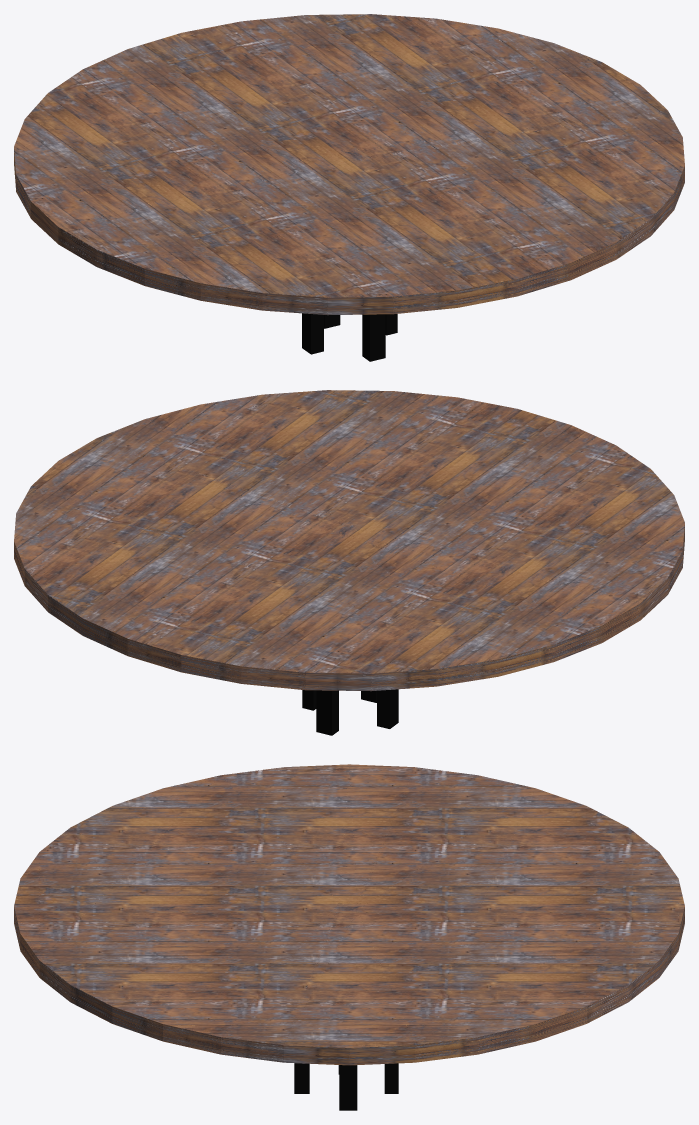
Rendered from Table.glb.
3 views of the same model, one above another, from view 1: azimuth 30°, elevation 25°; view 2: azimuth 150°, elevation 25°; view 3: azimuth 270°, elevation 25° (orthographic).
Visible parts, largest first — view 1: Cylinder; view 2: Cylinder; view 3: Cylinder.
Boxes of the visible parts, x1,y1,x2,y2 form: Cylinder: (14, 14, 684, 361); Cylinder: (14, 390, 684, 735); Cylinder: (14, 764, 684, 1110).
Bounding box in the file's own units: 7.14 × 2.16 × 7.14.
Materials: 2 (1 with a texture image).
